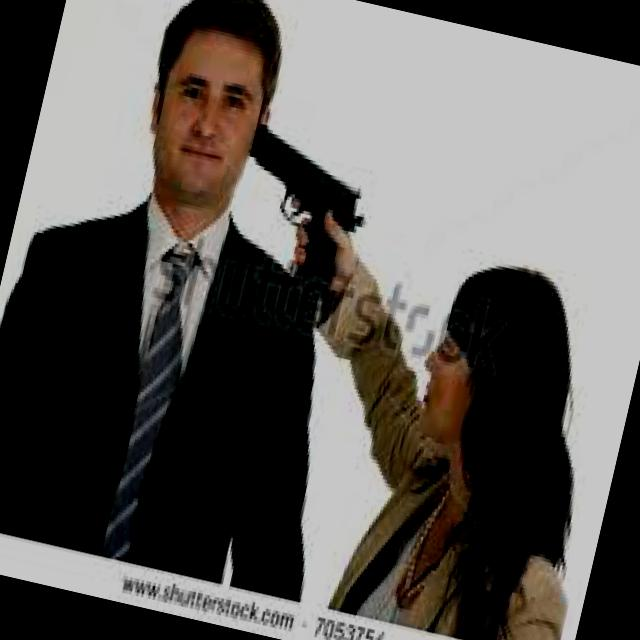handgun: (211, 111, 376, 308)
